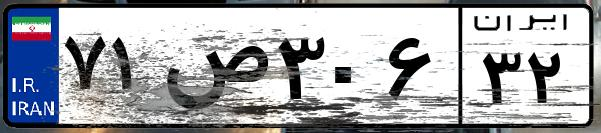0: (330, 28, 385, 110)
1: (110, 28, 158, 98)
2: (525, 38, 570, 115)
3: (270, 28, 330, 110), (475, 38, 525, 113)
6: (385, 28, 445, 110)
7: (57, 26, 110, 100)
ص: (158, 20, 270, 120)
